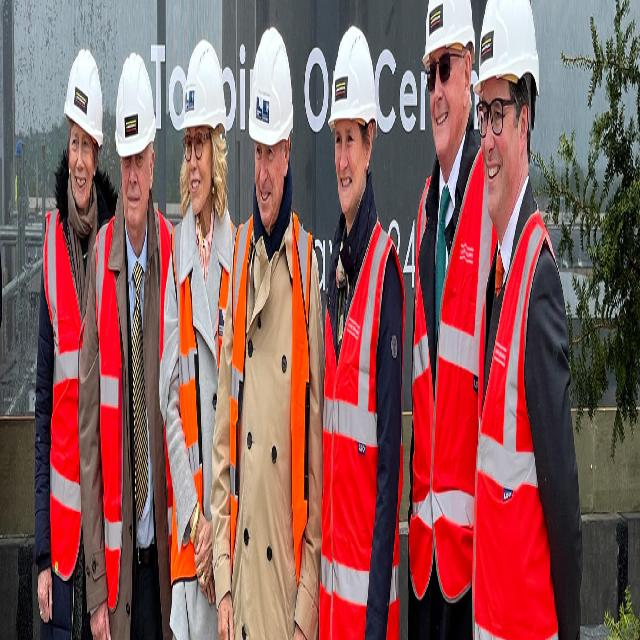helmet: (474, 0, 539, 98), (247, 28, 294, 143), (328, 22, 378, 126), (180, 38, 227, 132), (115, 51, 157, 156), (422, 0, 475, 76), (65, 46, 103, 145)
vest: (406, 144, 495, 612), (472, 221, 562, 640), (318, 220, 406, 640), (231, 210, 313, 640), (96, 212, 172, 614), (44, 208, 81, 582)
